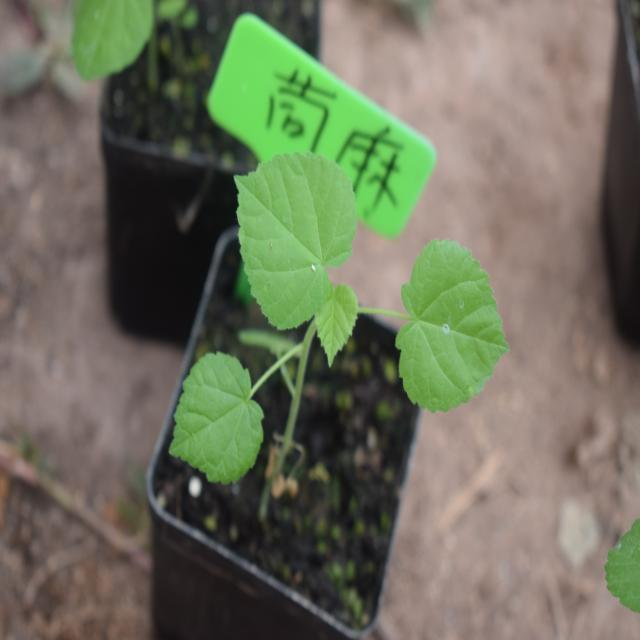abutilon theophrasti: (161, 146, 495, 514)
